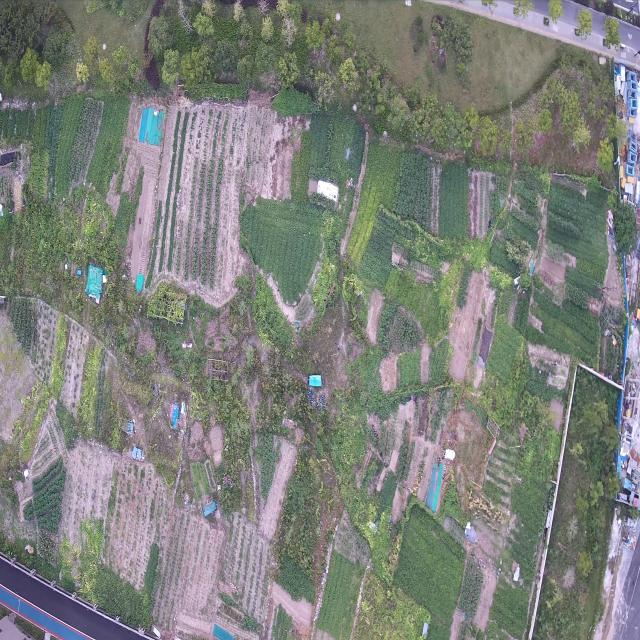UAV: (342, 145, 354, 163)
